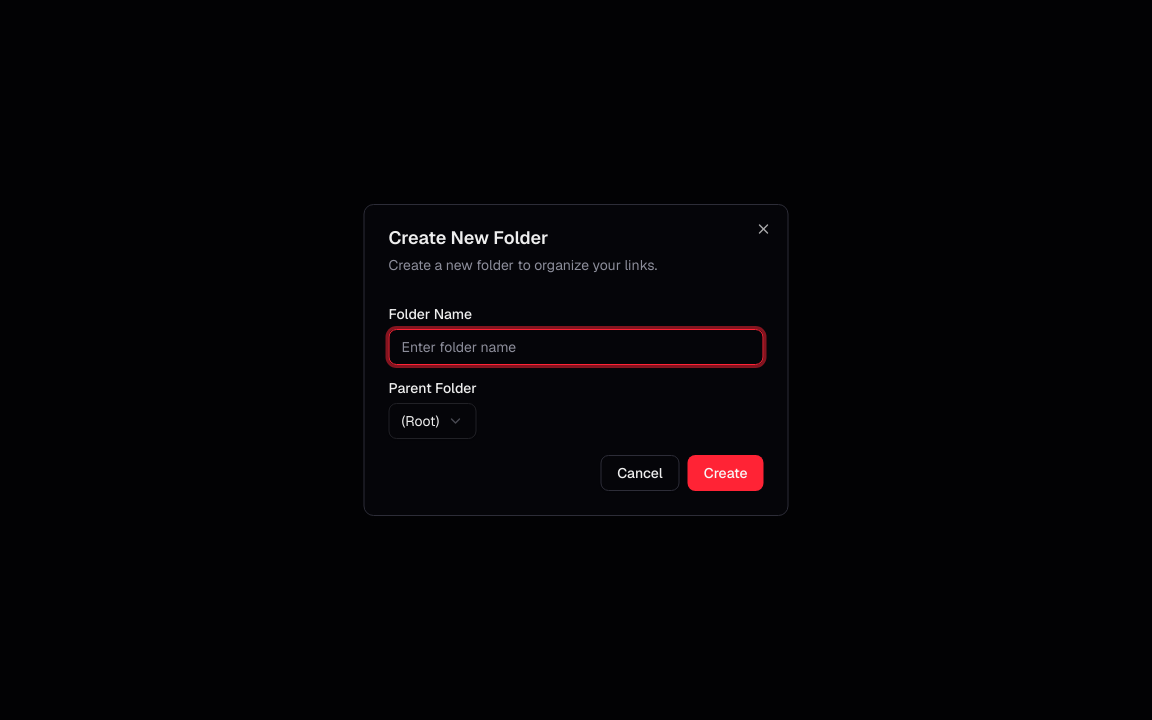
Test: CreateFolderDialog › should show validation error for empty name
The image size is (1152, 720).
Click the button with test id "create-button" at [726, 473], box [688, 455, 764, 491]
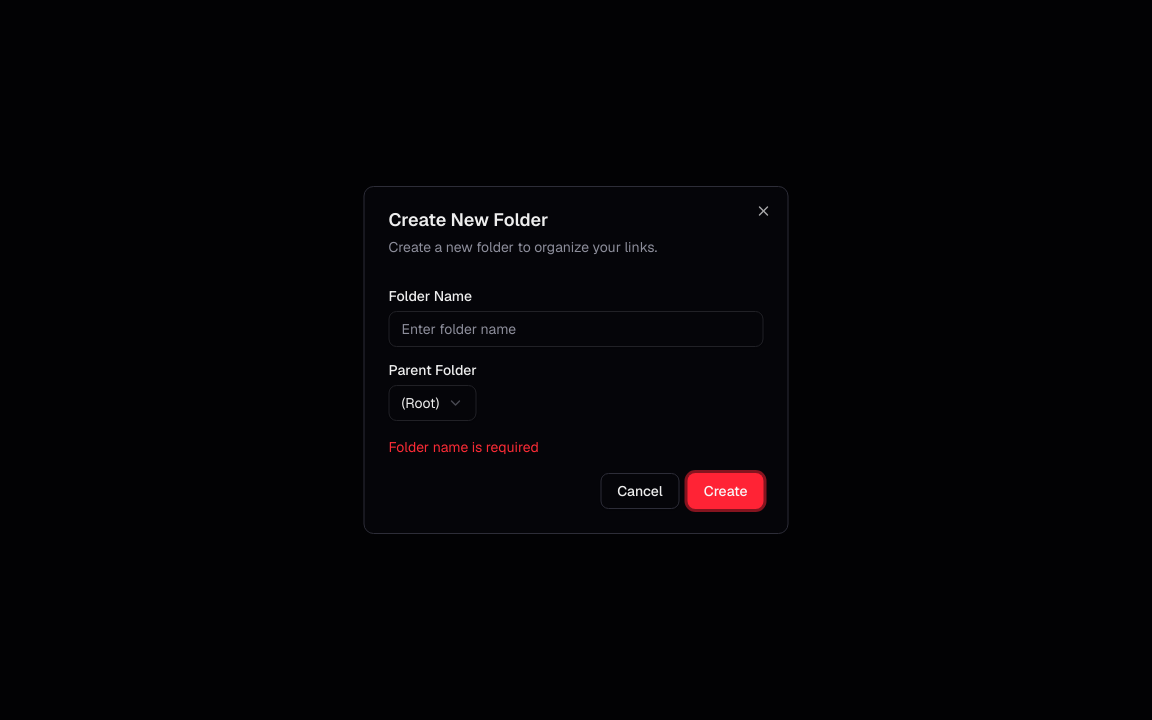
Check: the text "Folder name is required" is shown, box [388, 438, 539, 456]
